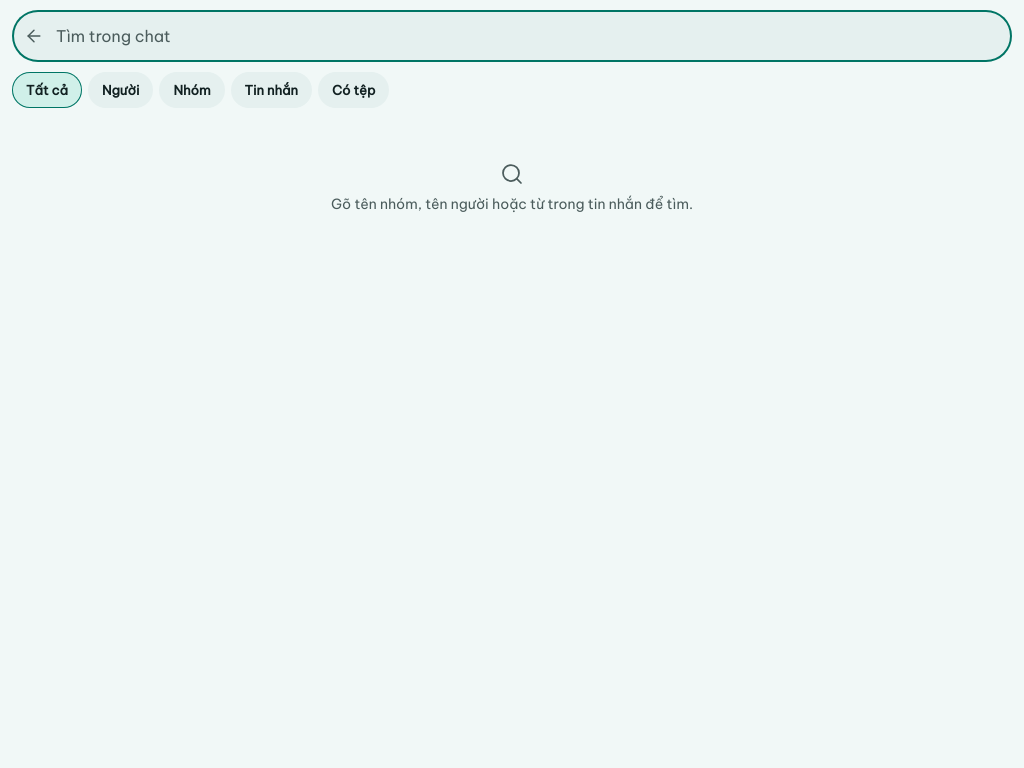
Test: the chips › Người shows people only and asks the server nothing
Click the radio button labelled "Người" at (121, 90), box [88,72,154,108]
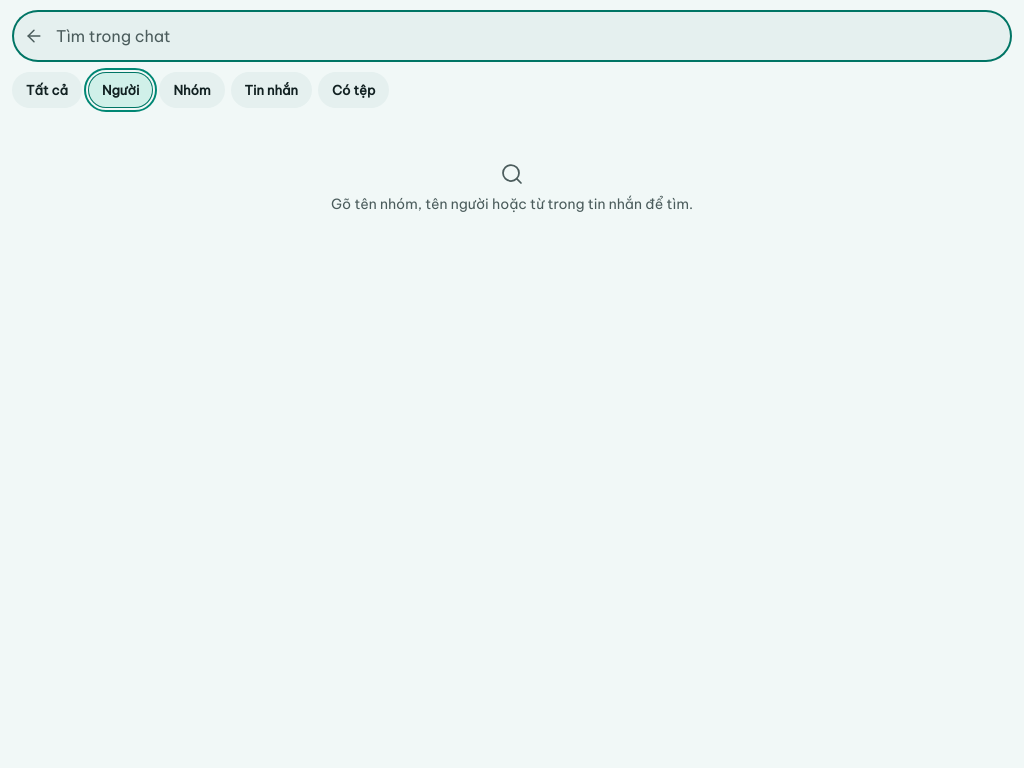
Type "doi" into the search field labelled "Tìm trong chat" at (530, 36), box [56,14,1004,58]
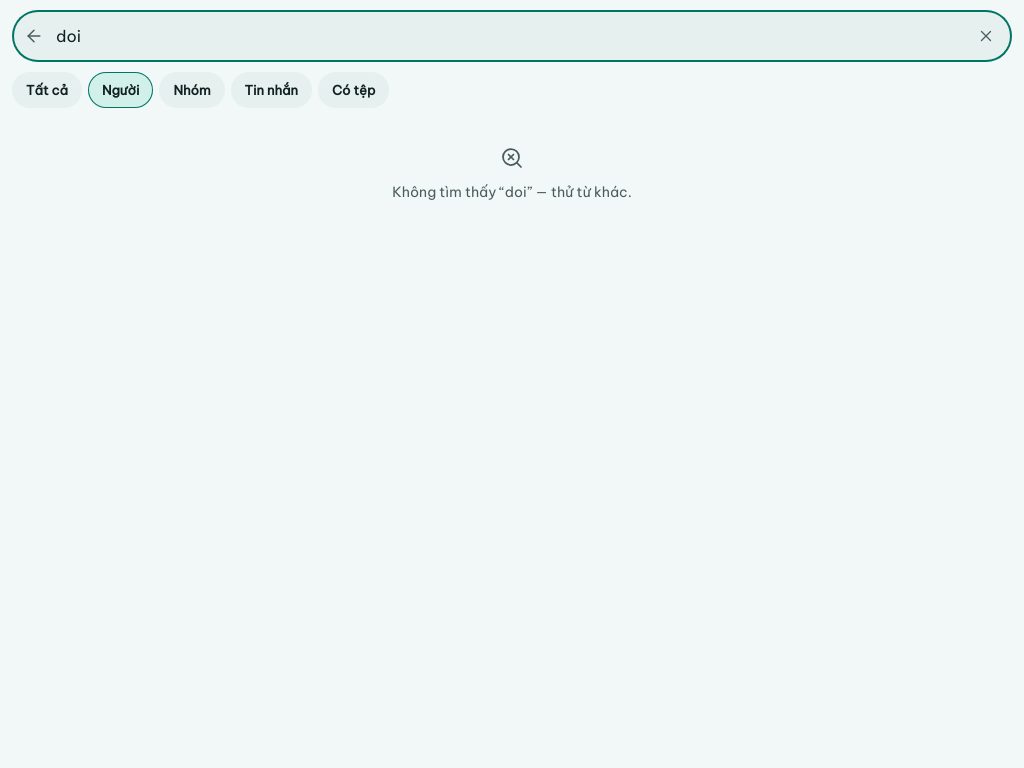
Clear the search field named "Tìm trong chat" at (510, 36), box [56,14,964,58]
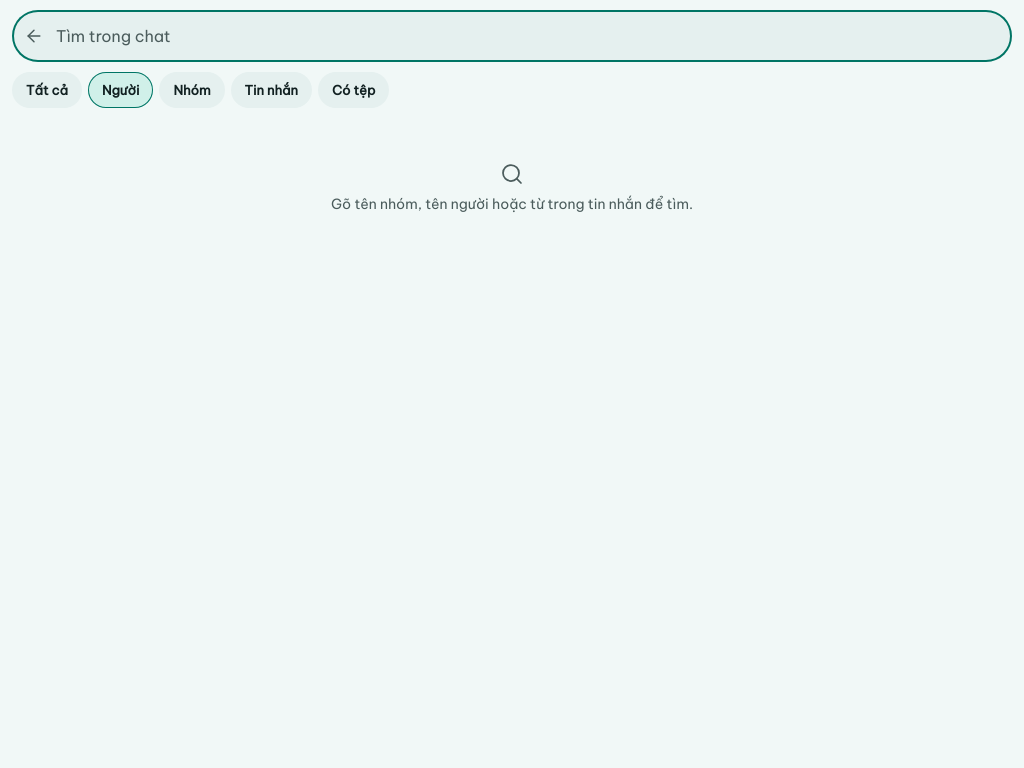
Type "duc" into the search field labelled "Tìm trong chat" at (530, 36), box [56,14,1004,58]
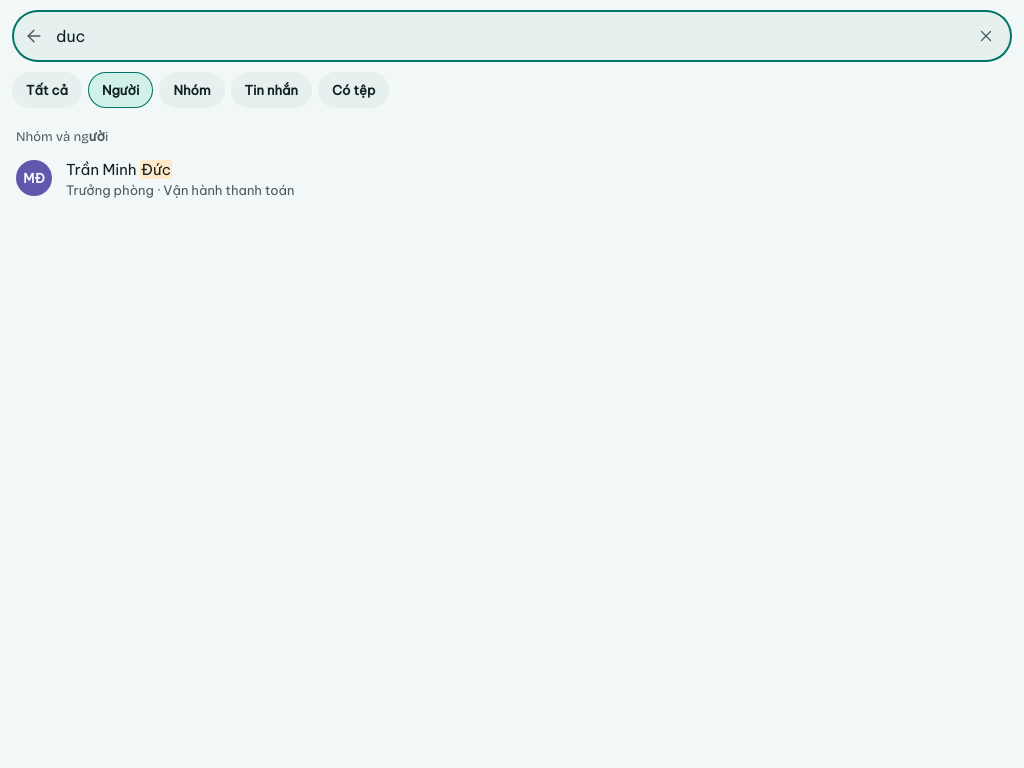
Expected: the button "MĐ Trần Minh Đức Trưởng phòng · Vận hành thanh toán" is shown, [0,150,1023,206]
